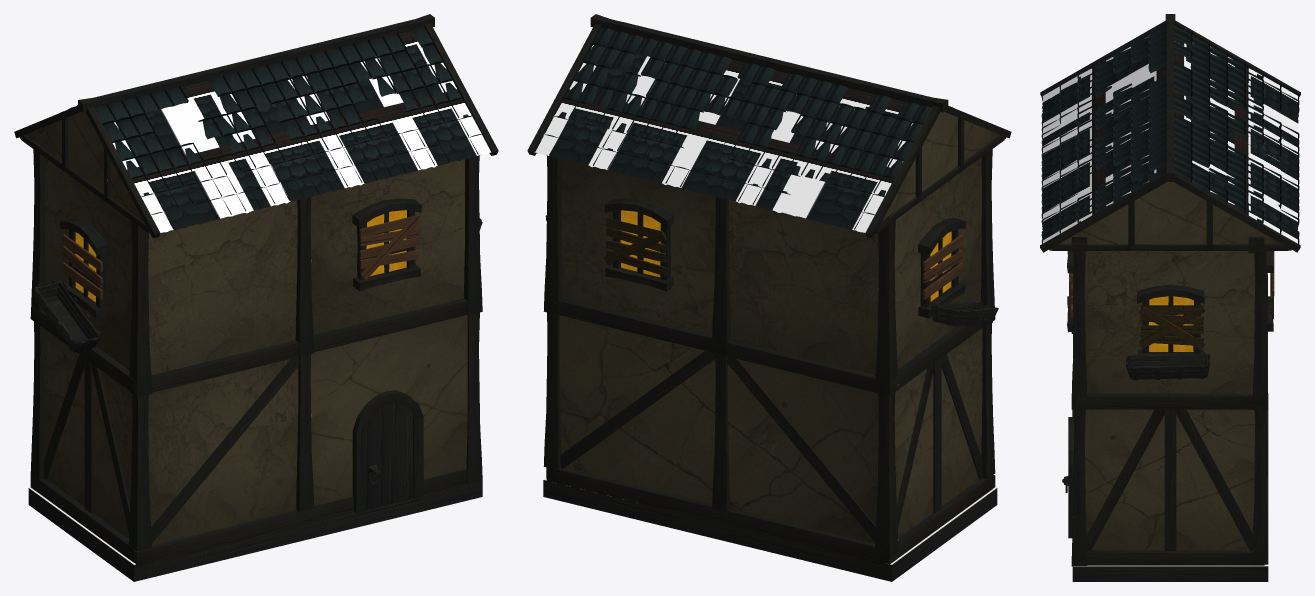
The model's file is Damaged.House.001.glb.
3 renders of one model, left to right at view 1: azimuth 30°, elevation 25°; view 2: azimuth 150°, elevation 25°; view 3: azimuth 270°, elevation 25°, orthographic. The views are drawn at different scales.
Visible parts, largest first — view 1: Damaged.House.001; view 2: Damaged.House.001; view 3: Damaged.House.001.
Boxes of the visible parts, x1=… form: Damaged.House.001: x1=14, y1=14, x2=498, y2=581; Damaged.House.001: x1=527, y1=14, x2=1011, y2=581; Damaged.House.001: x1=1040, y1=14, x2=1300, y2=581.
Bounding box in the file's own units: 7.98 × 8.16 × 4.71.
Materials: 5 (5 with a texture image).
